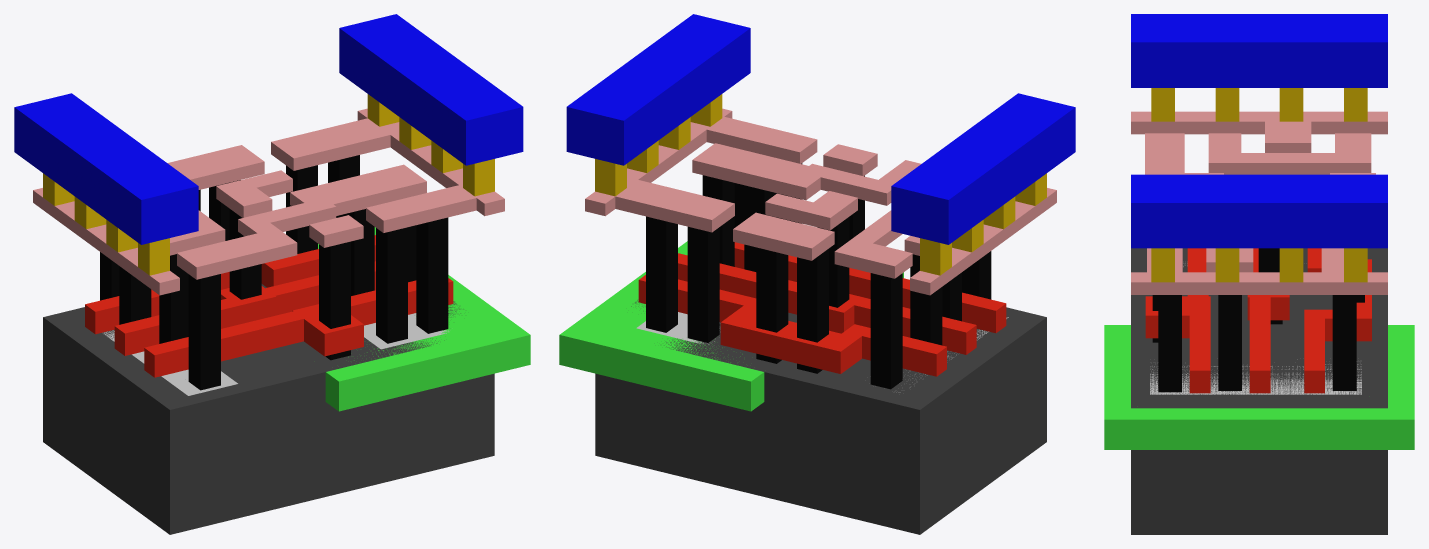
File: sky130_fd_sc_hd__o21ai_0.obj
3 renders of one model, left to right at view 1: azimuth 30°, elevation 25°; view 2: azimuth 150°, elevation 25°; view 3: azimuth 270°, elevation 25°, orthographic.
Parts seen in each view (by area): view 1: subs, metal1, li, licon, poly, nwell, mcon, diff, tap; view 2: subs, metal1, li, licon, poly, nwell, mcon; view 3: metal1, subs, li, nwell, poly, licon, mcon, tap.
Part boxes in pixels (x1,y1,x2,y2): subs: (43,284,494,534); metal1: (14,14,523,244); li: (33,108,504,295); licon: (100,155,448,390); poly: (85,235,453,377); nwell: (318,227,530,411); mcon: (43,94,494,275); diff: (103,330,237,395); tap: (364,313,449,349); subs: (595,300,1046,534); metal1: (566,14,1075,244); li: (585,108,1056,295); licon: (646,163,991,389); poly: (638,242,1006,376); nwell: (559,241,903,411); mcon: (595,94,1046,275); metal1: (1131,14,1387,248); subs: (1131,248,1387,534); li: (1131,111,1387,294); nwell: (1104,325,1414,449); poly: (1145,248,1371,393); licon: (1152,248,1364,392); mcon: (1151,88,1367,282); tap: (1150,359,1361,394).
Size of the model in its own units: 3.2 by 2.74 by 2.22.
